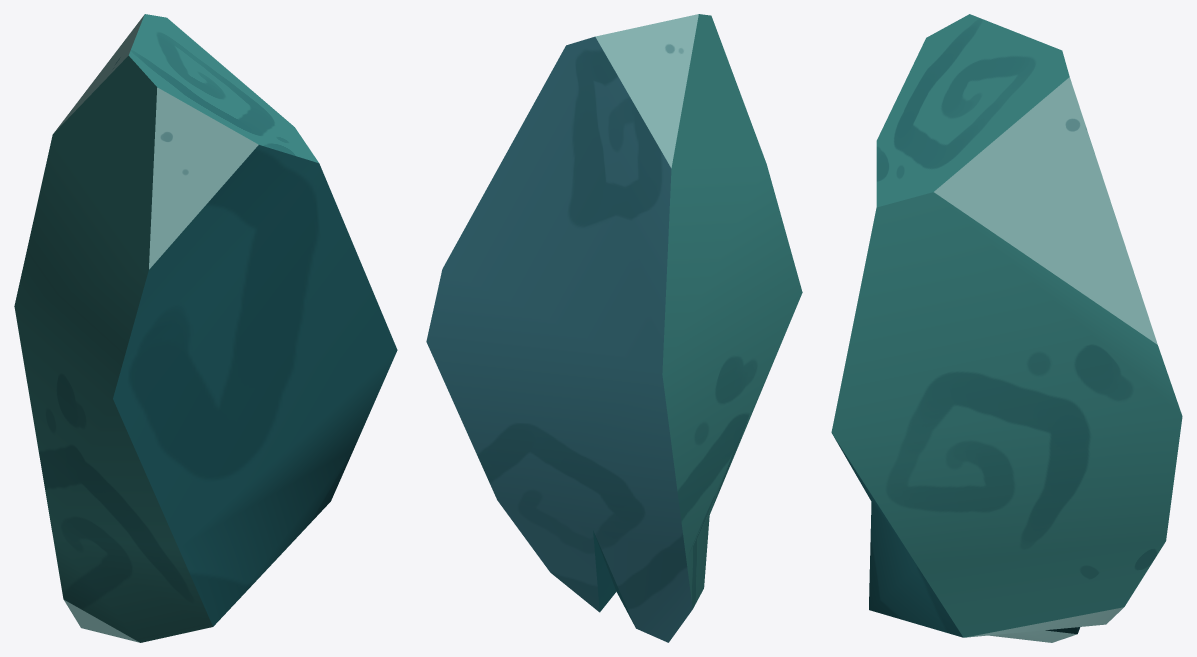
The model's file is rock.fbx.
The picture shows the model from 3 angles, left to right: view 1: azimuth 30°, elevation 25°; view 2: azimuth 150°, elevation 25°; view 3: azimuth 270°, elevation 25°; orthographic projection. The views are drawn at different scales.
Parts seen in each view (by area): view 1: pCube42; view 2: pCube42; view 3: pCube42.
Boxes of the visible parts, x1=… form: pCube42: x1=14, y1=14, x2=397, y2=642; pCube42: x1=426, y1=14, x2=802, y2=642; pCube42: x1=831, y1=14, x2=1182, y2=642.
Bounding box in the file's own units: 11.2 × 24.33 × 12.22.
